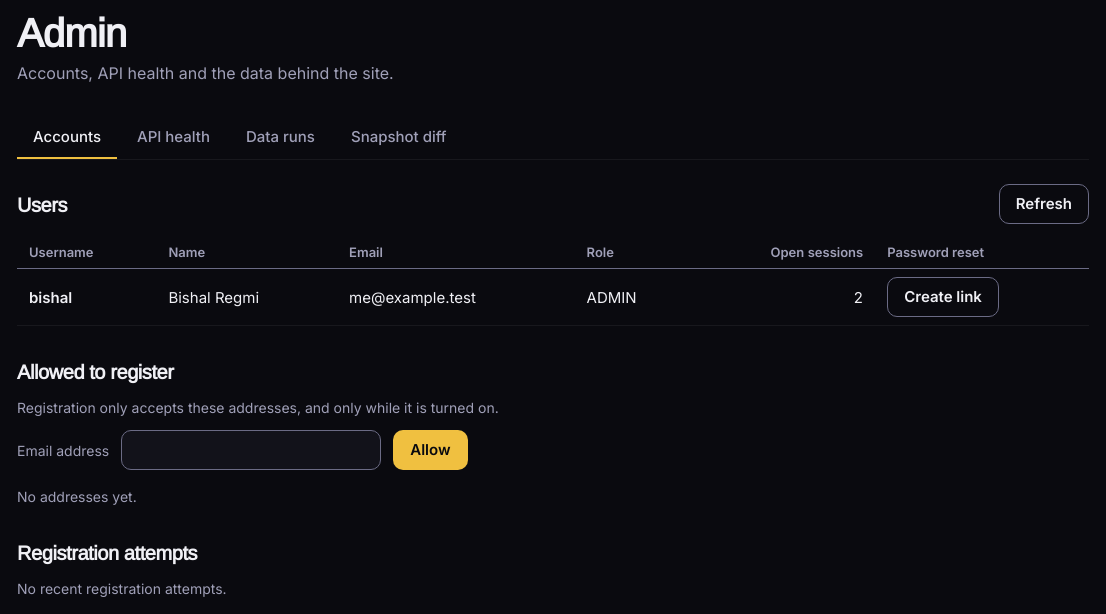
AdminComponent › says plainly when the server refuses
This screenshot has width=1106, height=614.
Click the tab "API health" at (174, 137), box [121,115,226,159]
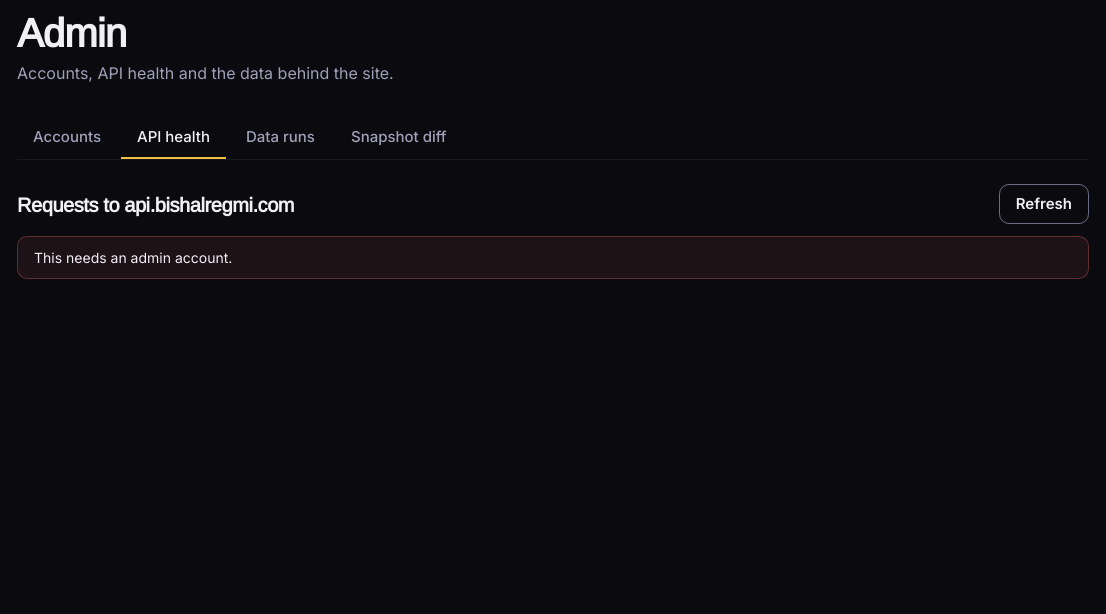
Check: the message "This needs an admin account." is shown, box [17,236,1089,279]
